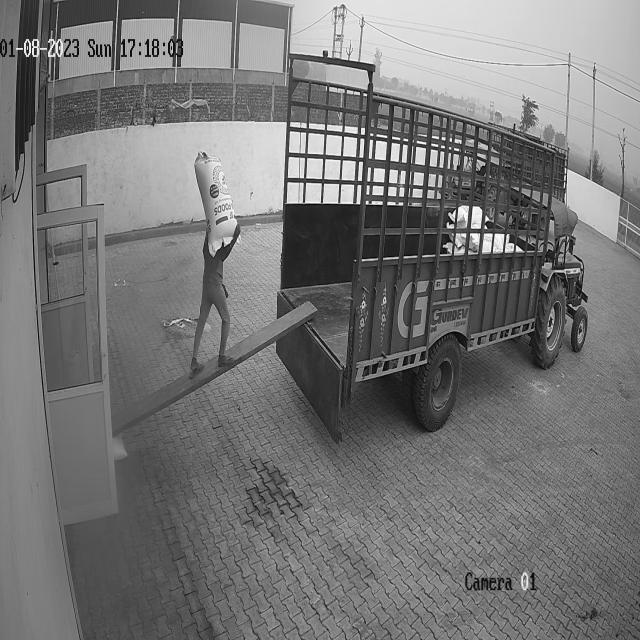sack: (194, 151, 237, 257)
